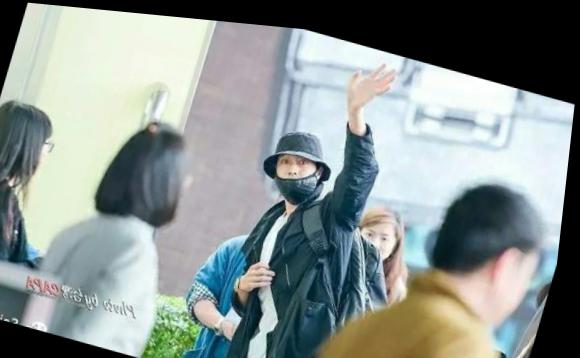NONE: (359, 215, 405, 255)
WRONG: (267, 137, 332, 202)
